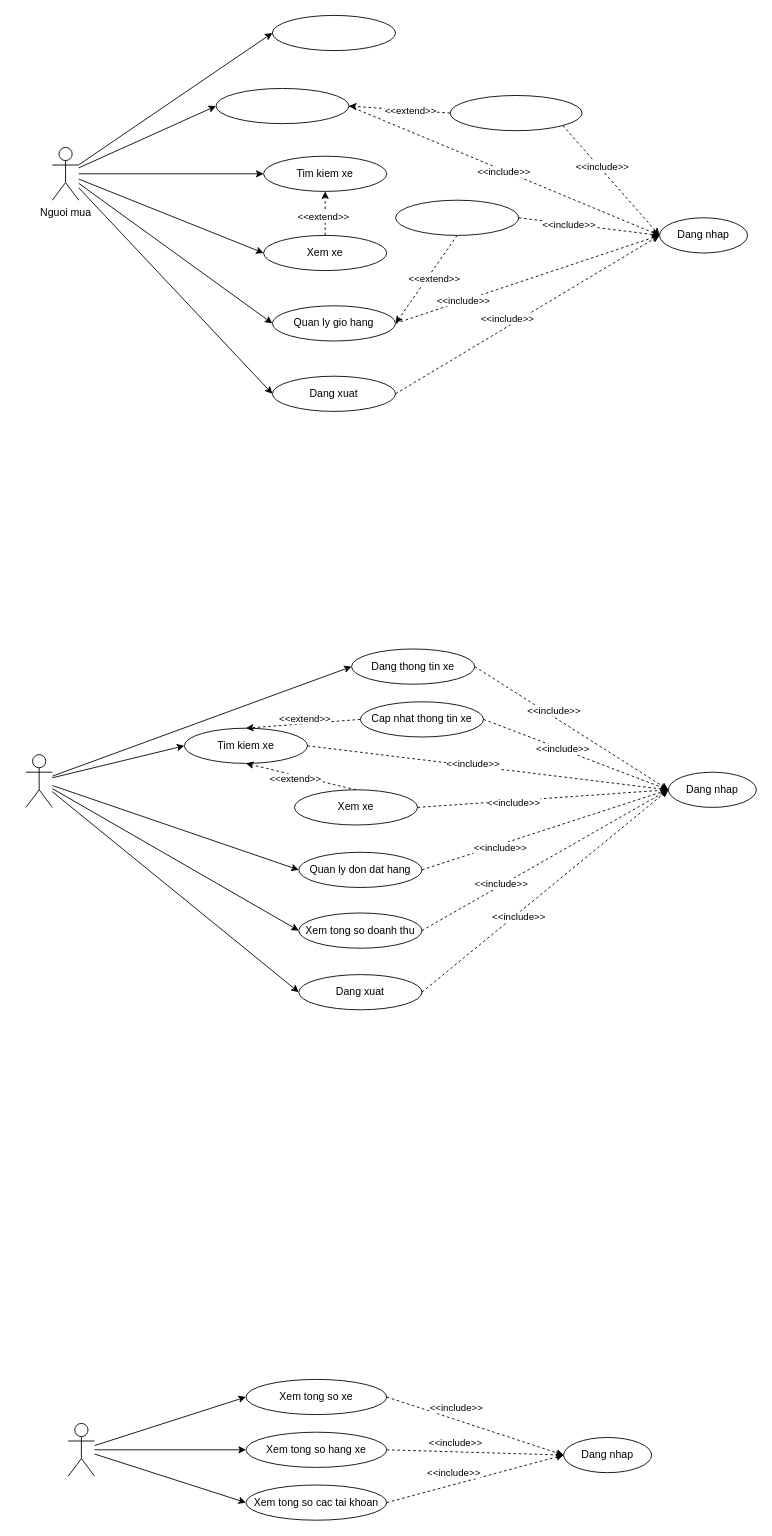
Some shapes in this 772 by 1536 pixel diagram are drawn without their labels. The centre of each missing label's shape, as x and y in pixels:
"Cap nhat ho so ca nhan" belongs at point 515,113.
"Dang ky tai khoan" belongs at point 333,33.
"Nguoi ban" belongs at point 38,780.
"Quan tri vien" belongs at point 81,1449.
"Thanh toan" belongs at point 457,217.
"Xem thong tin tai khoan" belongs at point 282,106.
